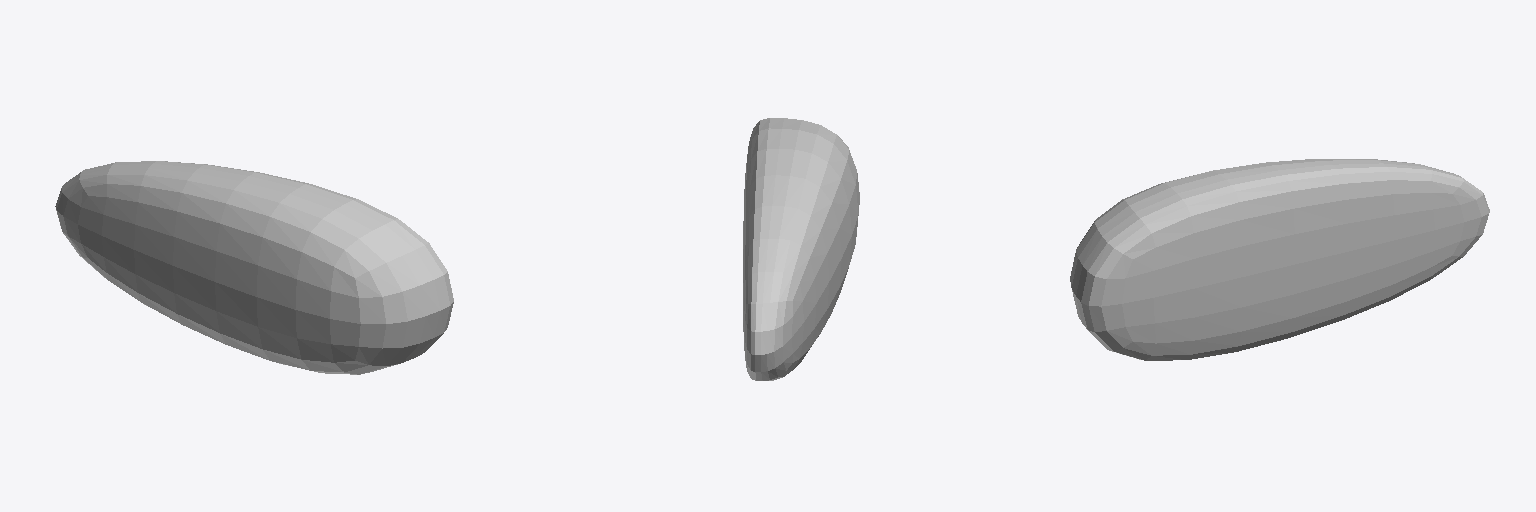
File: brazoder.obj
3 renders of one model, left to right at view 1: azimuth 30°, elevation 25°; view 2: azimuth 150°, elevation 25°; view 3: azimuth 270°, elevation 25°, orthographic.
Visible parts, largest first — view 1: L_braco; view 2: L_braco; view 3: L_braco.
Boxes of the visible parts, x1=… form: L_braco: x1=55, y1=161, x2=453, y2=374; L_braco: x1=743, y1=118, x2=859, y2=380; L_braco: x1=1070, y1=159, x2=1489, y2=360.
Bounding box in the file's own units: 0.5445 × 0.4205 × 0.9553.